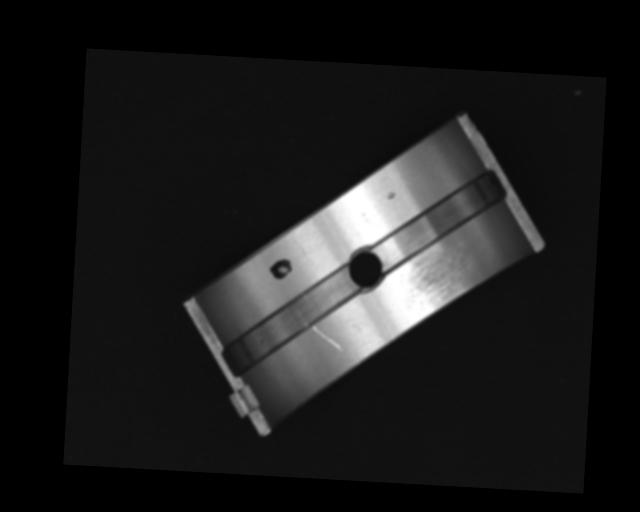blot: (268, 257, 293, 281)
bruise: (386, 191, 395, 200)
gap: (218, 261, 361, 386), (373, 163, 508, 273)
hole: (346, 244, 387, 291)
nick: (310, 324, 344, 352), (291, 236, 314, 268)
scratch: (399, 246, 475, 322)
